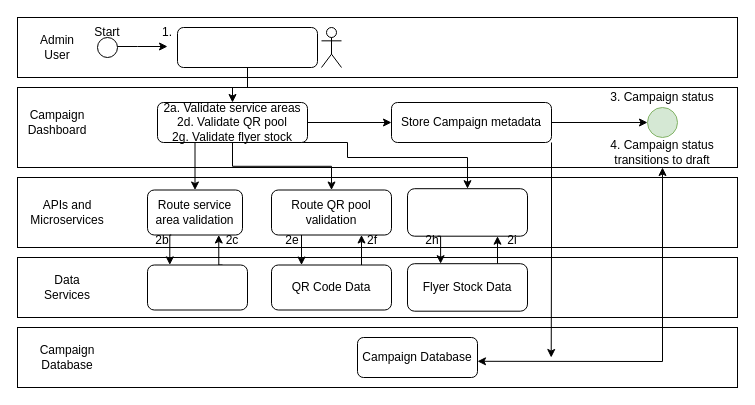
The diagram is 755 pixels wide and 405 high, and some of its shapes have lost their labels. The shapes that lost their labels are listed below. From the top down, each one's centre as x and y in pixels, then its label:
point (247, 47): Create Campaign
point (331, 47): Actor
point (467, 212): Route flyer stock validation
point (197, 287): Service Areas Data
